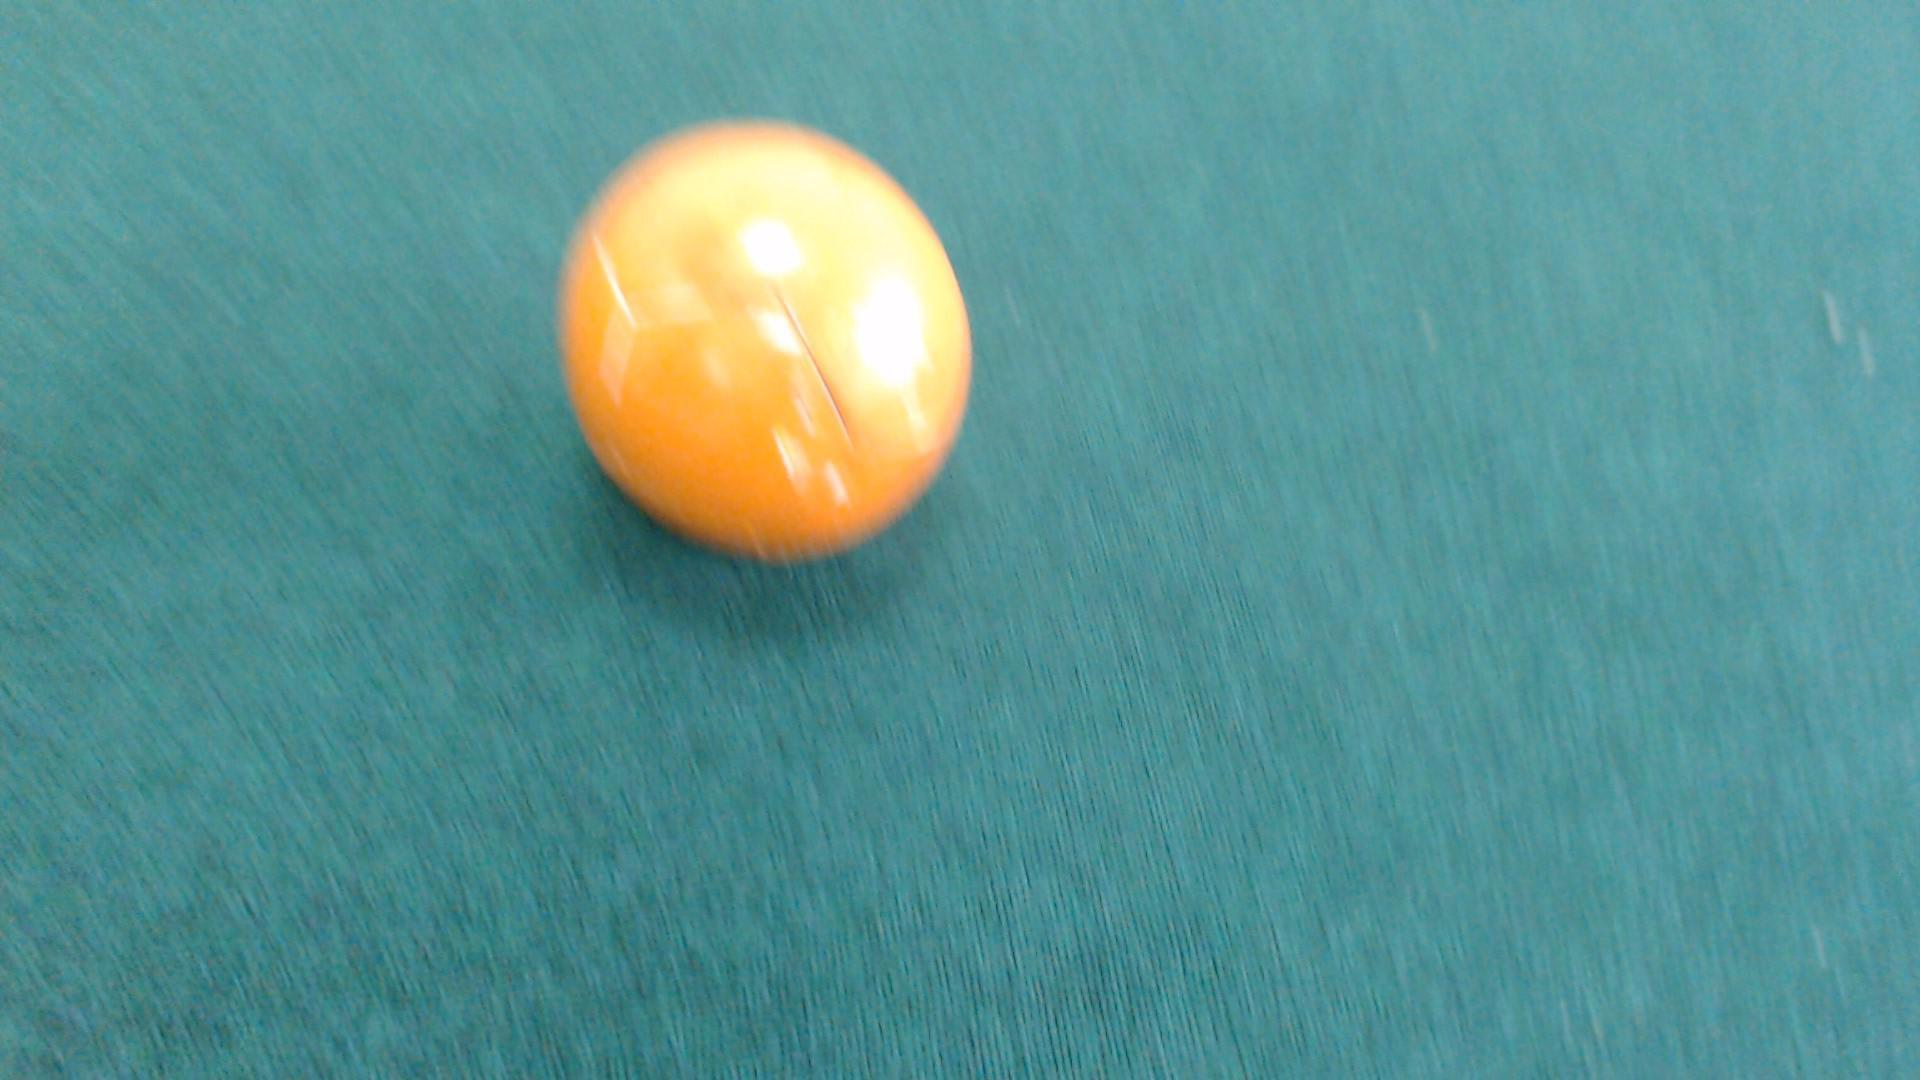bola: (549, 112, 985, 575)
